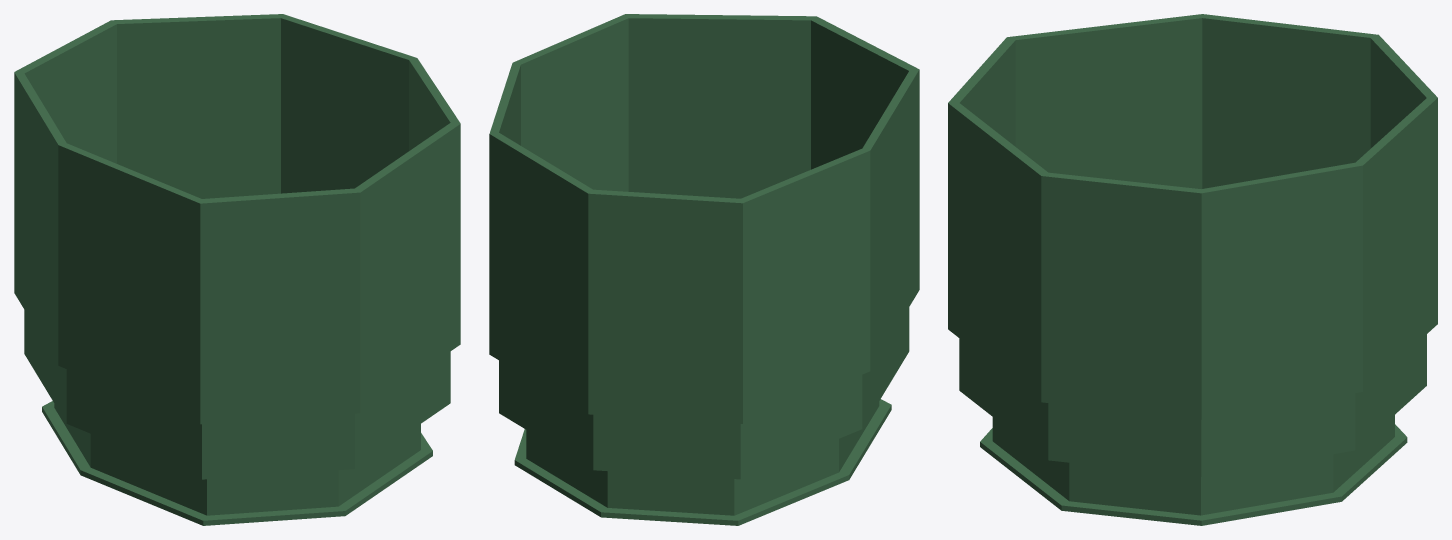
Rendered from TestTerrain2.fbx.
The picture shows the model from 3 angles, left to right: view 1: azimuth 30°, elevation 25°; view 2: azimuth 150°, elevation 25°; view 3: azimuth 270°, elevation 25°; orthographic projection. The views are drawn at different scales.
Parts seen in each view (by area): view 1: Cube.001, Cube; view 2: Cube.001, Cube; view 3: Cube.001, Cube.
Boxes of the visible parts, x1,y1,x2,y2 form: Cube.001: (14, 14, 460, 424); Cube: (24, 310, 450, 525); Cube.001: (489, 14, 919, 423); Cube: (499, 307, 909, 525); Cube.001: (948, 14, 1437, 419); Cube: (959, 334, 1426, 525).
Bounding box in the file's own units: 4471 × 3995 × 5161.
